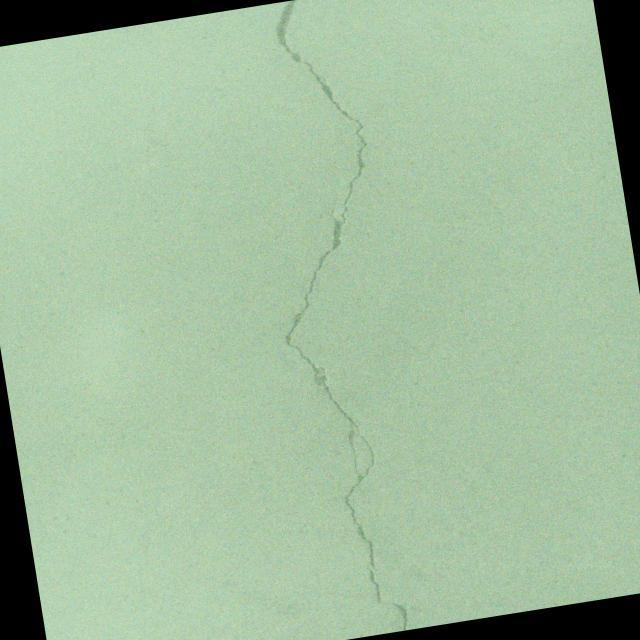crack: (205, 0, 444, 640)
